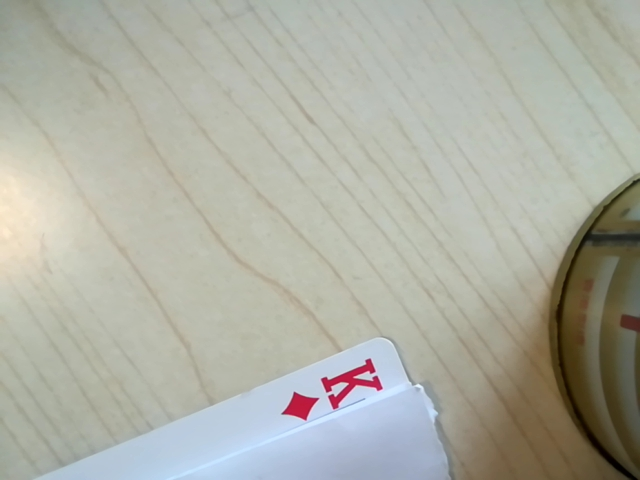fk k: (270, 358, 401, 427)
